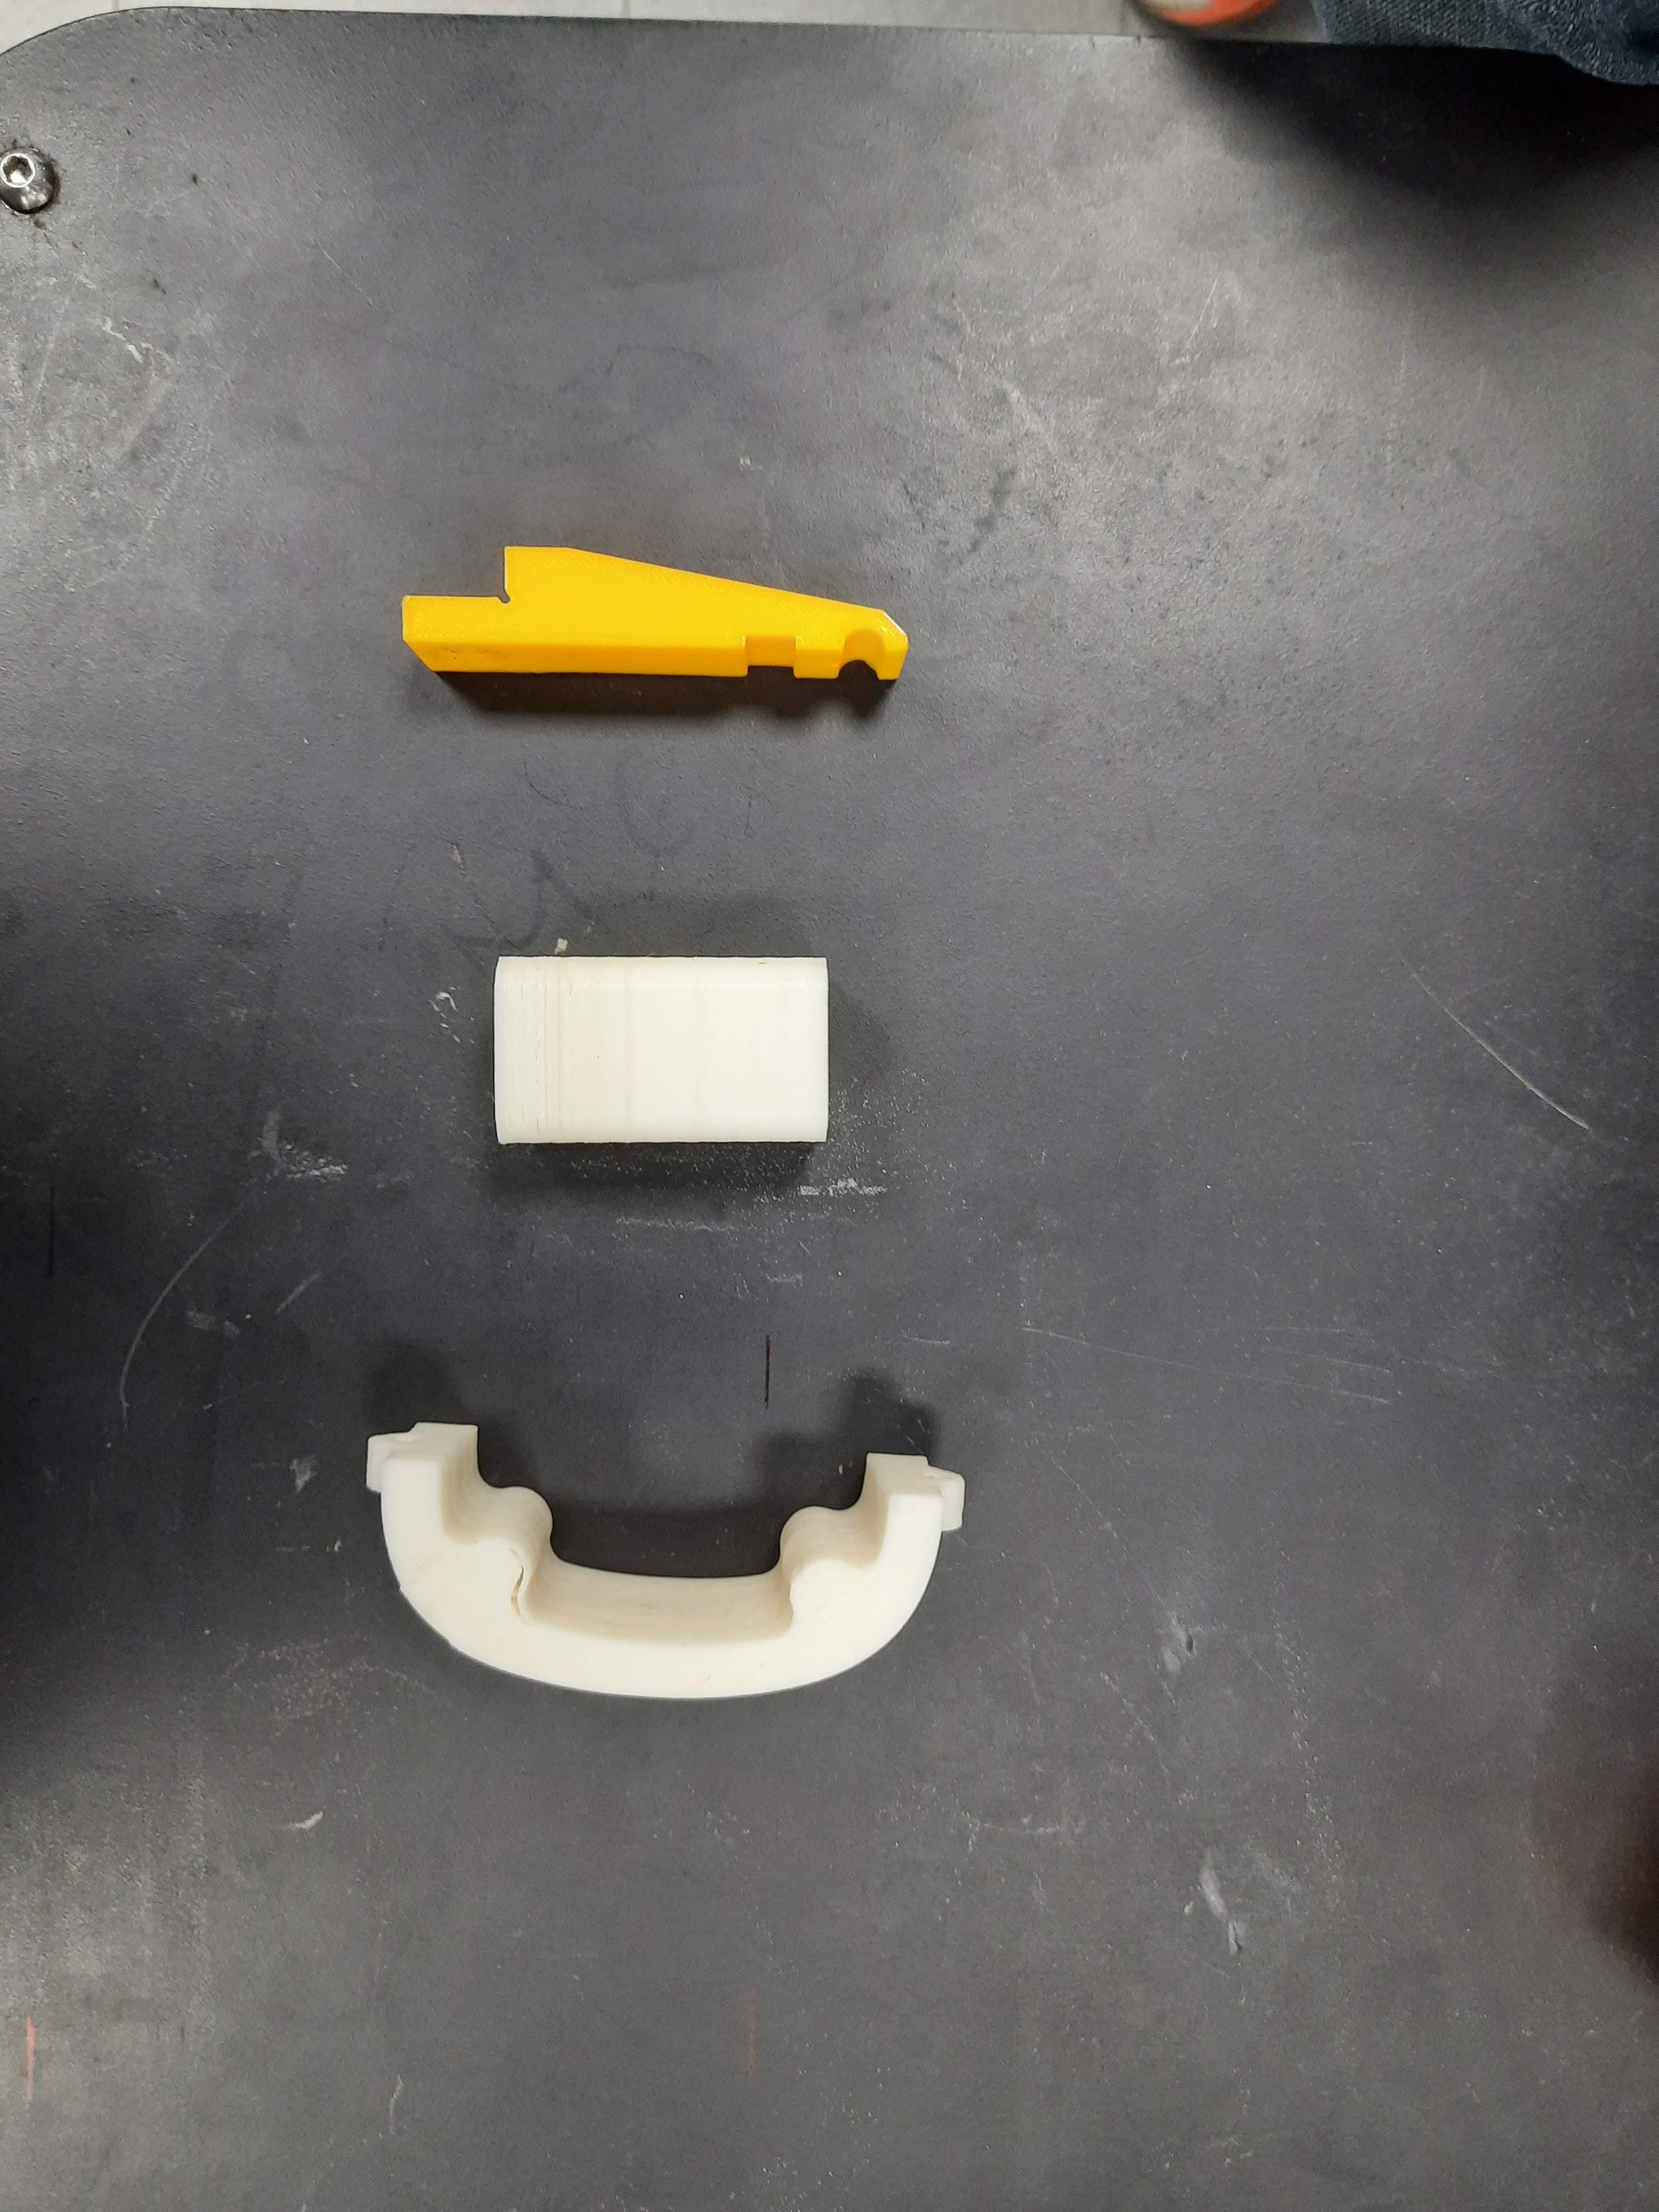ARC: (359, 1416, 979, 1714)
CUBE: (474, 939, 854, 1167)
YELLOW: (389, 526, 924, 697)
